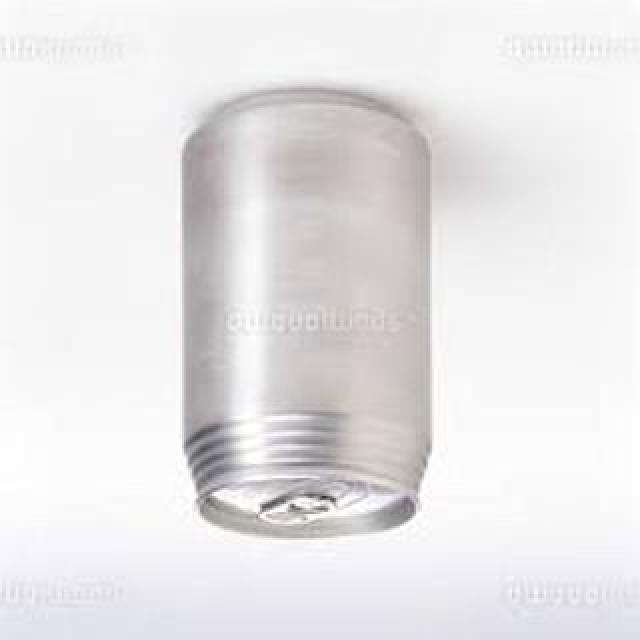Can: (165, 84, 453, 542)
